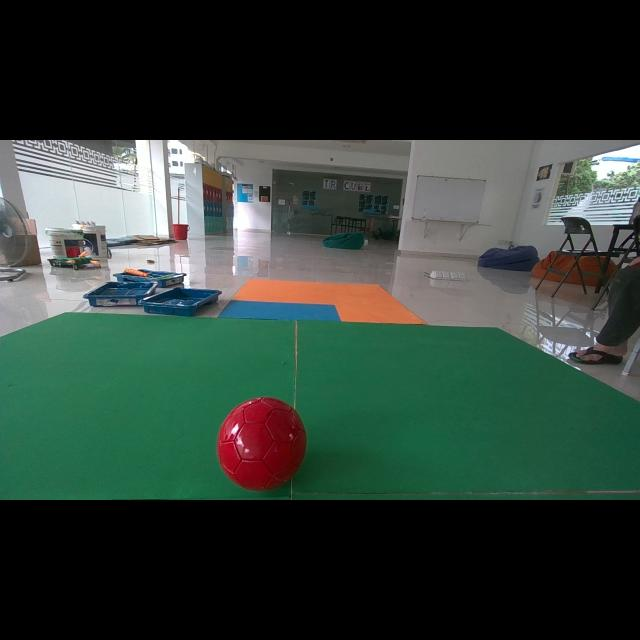R: (218, 398, 306, 490)
